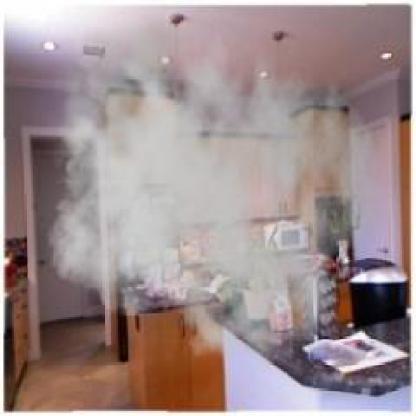Smoke: (38, 9, 380, 372)
